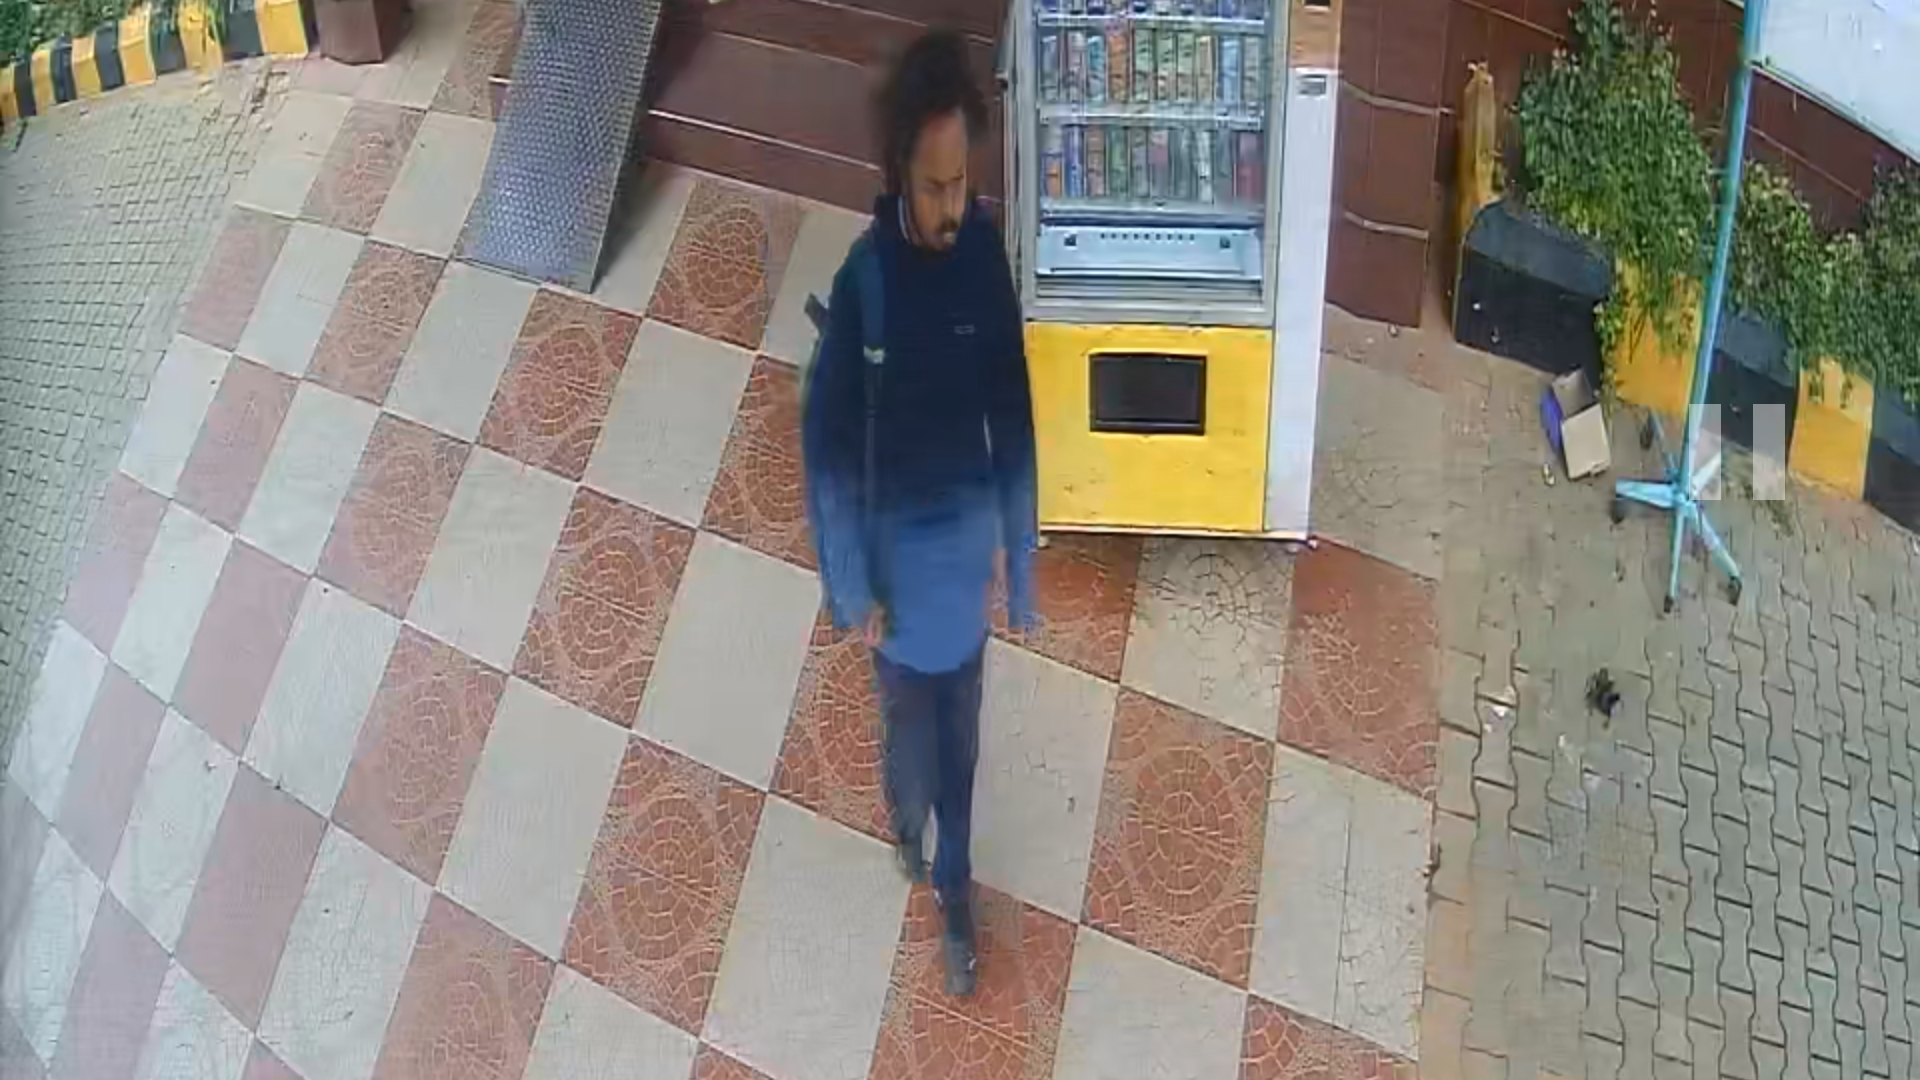not intruder: (798, 9, 1035, 996)
